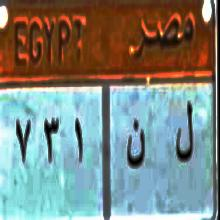1: (70, 109, 88, 166)
3: (40, 108, 62, 163)
7: (15, 111, 31, 171)
laam: (174, 85, 194, 172)
noon: (124, 116, 146, 170)
